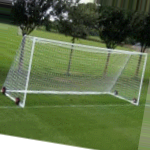goals: (1, 34, 148, 110)
